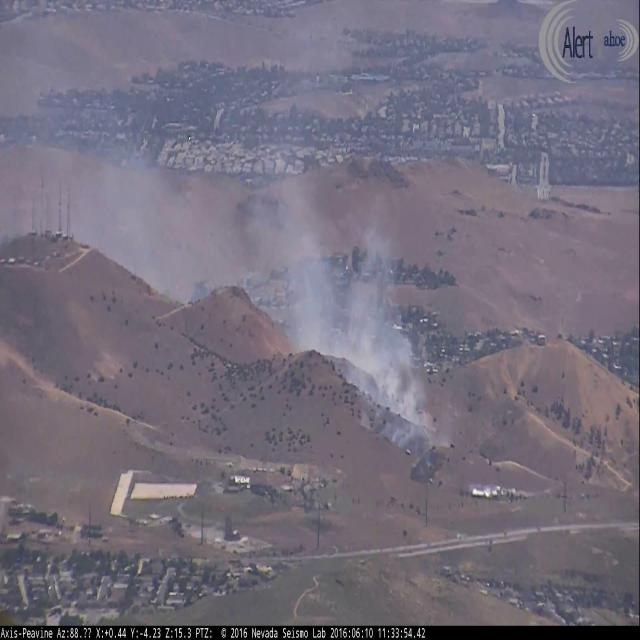smoke: (75, 49, 453, 490)
